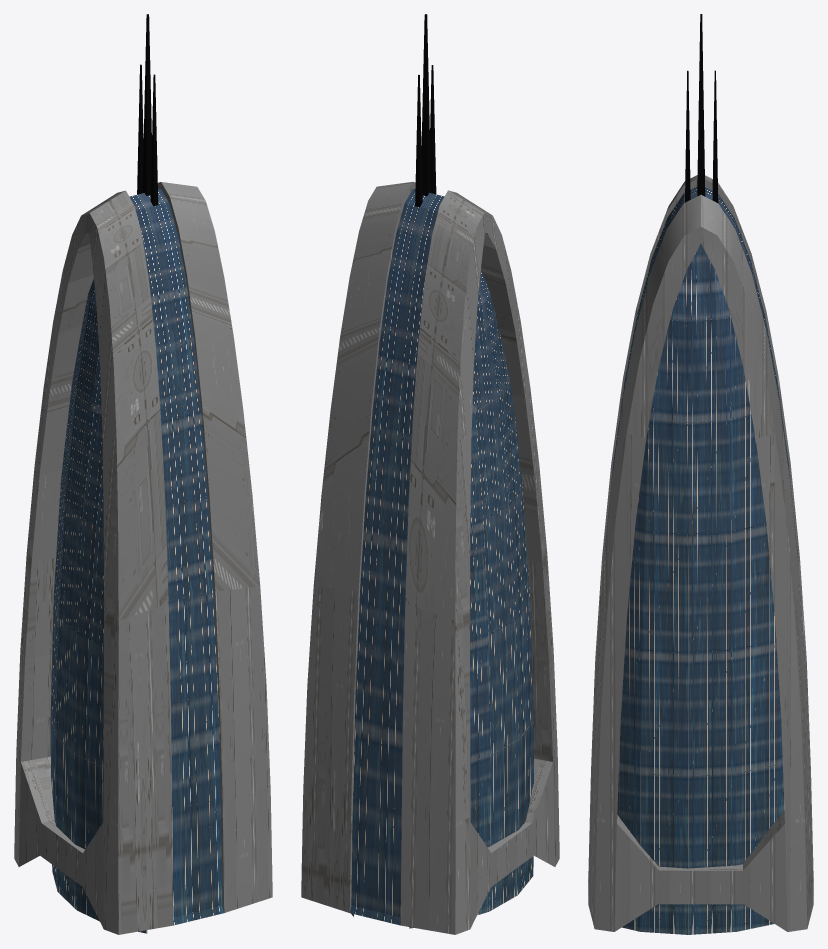
The model's file is futuristic_building.glb.
3 views of the same model, side by side, from view 1: azimuth 30°, elevation 25°; view 2: azimuth 150°, elevation 25°; view 3: azimuth 270°, elevation 25° (orthographic).
Parts seen in each view (by area): view 1: pPipe1, pSphere2, pCube5, pCube8, pCube6; view 2: pPipe1, pSphere2, pCube5, pCube6, pCube8; view 3: pSphere1, pPipe1, pCube5, pCube6, pCube8.
Part boxes in pixels (x1,y1,x2,y2): pPipe1: (14, 182, 272, 934); pSphere2: (50, 279, 147, 933); pCube5: (142, 14, 151, 195); pCube8: (150, 74, 158, 206); pCube6: (137, 64, 143, 194); pPipe1: (301, 181, 559, 934); pSphere2: (409, 271, 533, 928); pCube5: (421, 14, 431, 196); pCube6: (415, 75, 422, 207); pCube8: (430, 65, 436, 194); pSphere1: (617, 243, 784, 934); pPipe1: (588, 175, 813, 931); pCube5: (697, 14, 705, 196); pCube6: (712, 70, 718, 202); pCube8: (685, 70, 690, 202).
Size of the model in its own units: 0.0311 by 0.1572 by 0.0363.
Materials: 3 (2 with a texture image).
